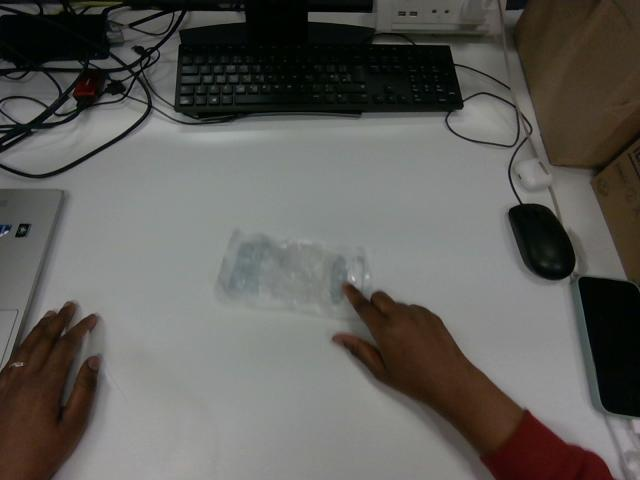gallipot: (217, 230, 370, 317)
